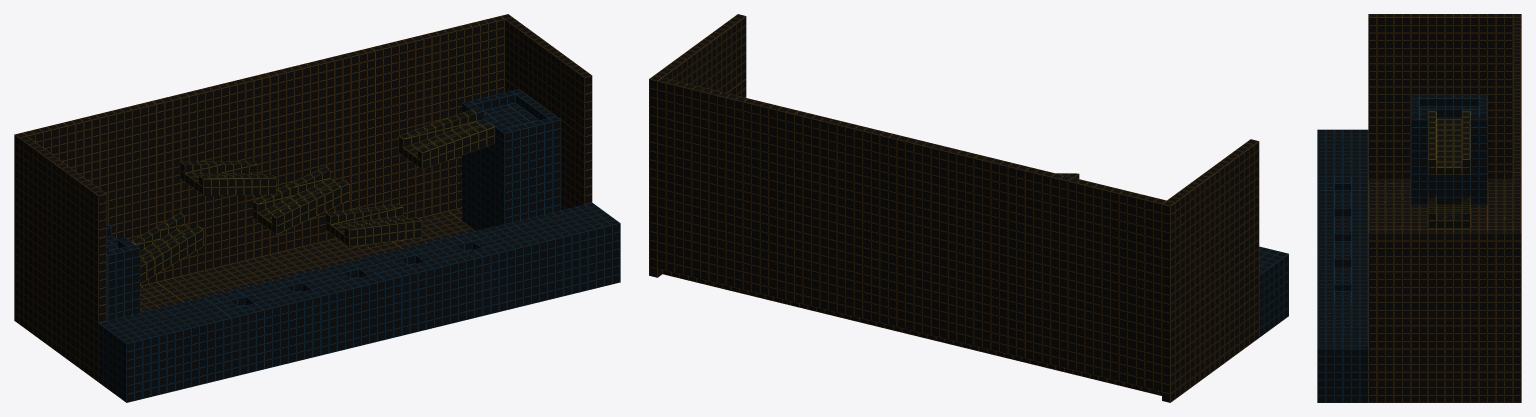
The model's file is movingplatformUp&Downtomakeballrollpart.dae.
The picture shows the model from 3 angles, left to right: view 1: azimuth 30°, elevation 25°; view 2: azimuth 150°, elevation 25°; view 3: azimuth 270°, elevation 25°; orthographic projection. The views are drawn at different scales.
Visible parts, largest first — view 1: movingplatformUp&Downtomakeballrollpart; view 2: movingplatformUp&Downtomakeballrollpart; view 3: movingplatformUp&Downtomakeballrollpart.
Part boxes in pixels (x1,y1,x2,y2): movingplatformUp&Downtomakeballrollpart: [14, 14, 620, 402]; movingplatformUp&Downtomakeballrollpart: [649, 14, 1288, 402]; movingplatformUp&Downtomakeballrollpart: [1317, 14, 1521, 402].
Bounding box in the file's own units: 122 × 48 × 44.
Materials: 3 (3 with a texture image).
